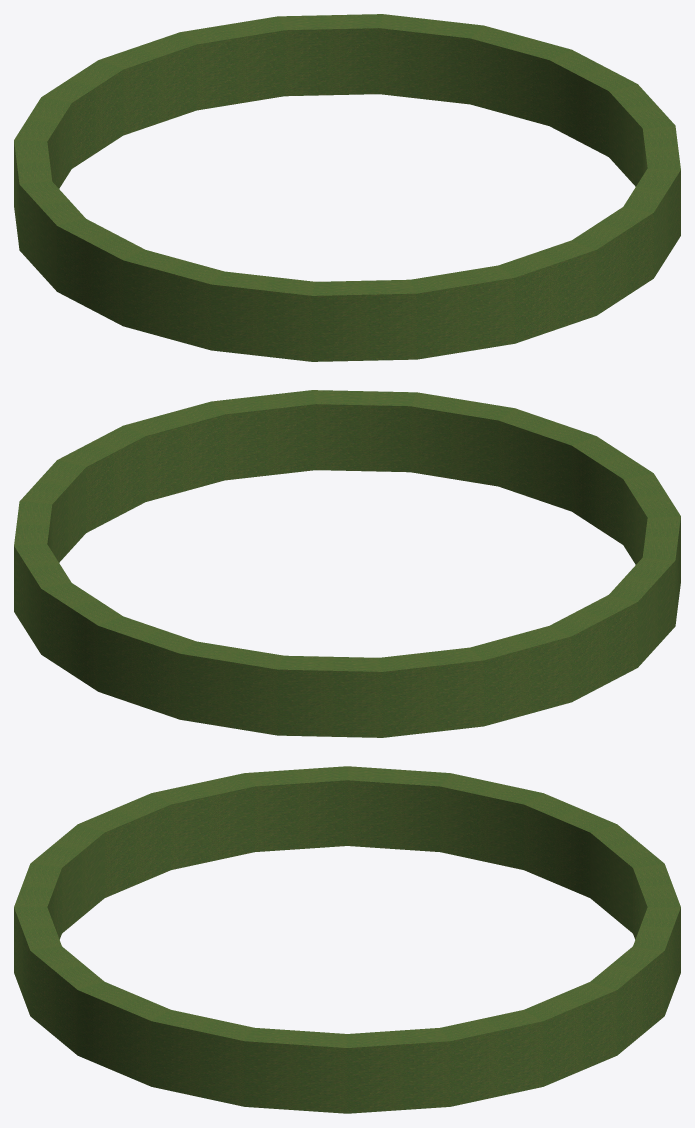
File: Hedgepin.fbx
3 views of the same model, one above another, from view 1: azimuth 30°, elevation 25°; view 2: azimuth 150°, elevation 25°; view 3: azimuth 270°, elevation 25° (orthographic).
Visible parts, largest first — view 1: hedgepin; view 2: hedgepin; view 3: hedgepin.
Boxes of the visible parts, <box> form: hedgepin: <box>14,14,680,361</box>; hedgepin: <box>14,390,680,737</box>; hedgepin: <box>14,766,680,1113</box>.
Bounding box in the file's own units: 96.72 × 10.51 × 96.72.
1 material, 1 textured.
